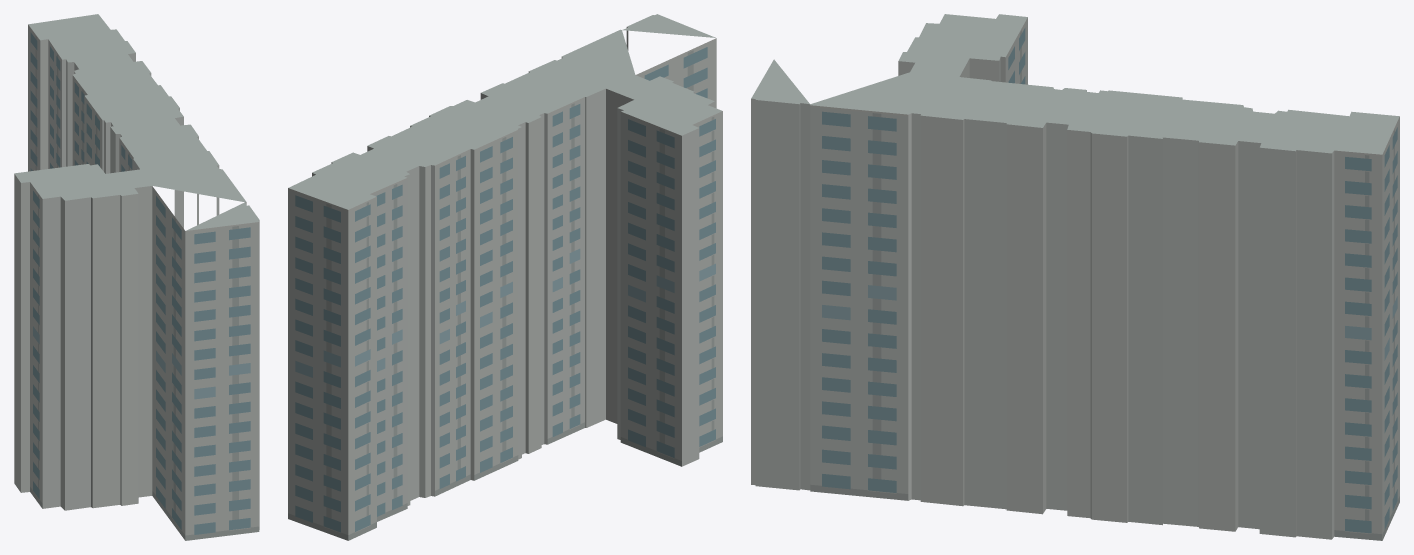
File: survey-upis-32802702.glb
3 renders of one model, left to right at view 1: azimuth 30°, elevation 25°; view 2: azimuth 150°, elevation 25°; view 3: azimuth 270°, elevation 25°, orthographic. The views are drawn at different scales.
Visible parts, largest first — view 1: survey-upis-32802702.tmp; view 2: survey-upis-32802702.tmp; view 3: survey-upis-32802702.tmp.
Boxes of the visible parts, x1,y1,x2,y2 form: survey-upis-32802702.tmp: (14,14,259,540); survey-upis-32802702.tmp: (288,14,722,540); survey-upis-32802702.tmp: (751,14,1399,540).
Bounding box in the file's own units: 40.01 × 51.2 × 77.94.
